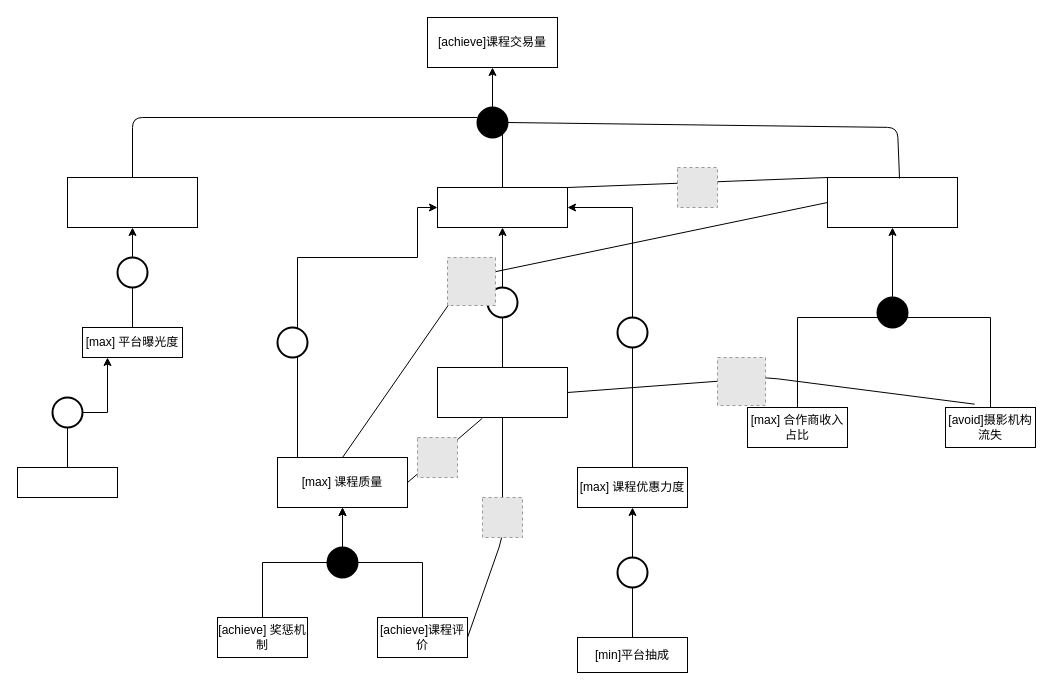
This 1053x690 diagram has some shape labels left out. Grey dashed boxes stand in for pictures. Here are the shapes that lost their labels. From the top down, the centre of each, then its label:
At (x=132, y=202): "[achieve]用户基数".
At (x=502, y=207): "[achieve]用户的购买率".
At (x=892, y=202): "[max] 课程数量".
At (x=502, y=392): "[max] 相关课程推荐精确度".
At (x=67, y=482): "[max] 广告合作商渠道曝光度".
